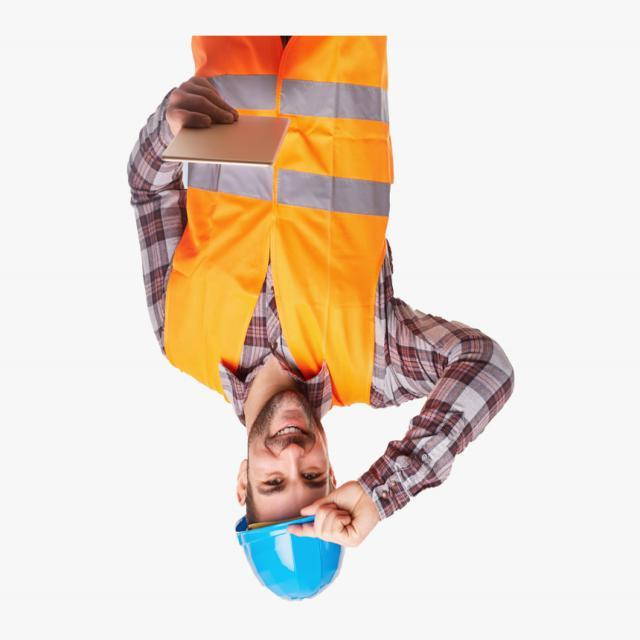safetyhelmet: (228, 430, 348, 612)
